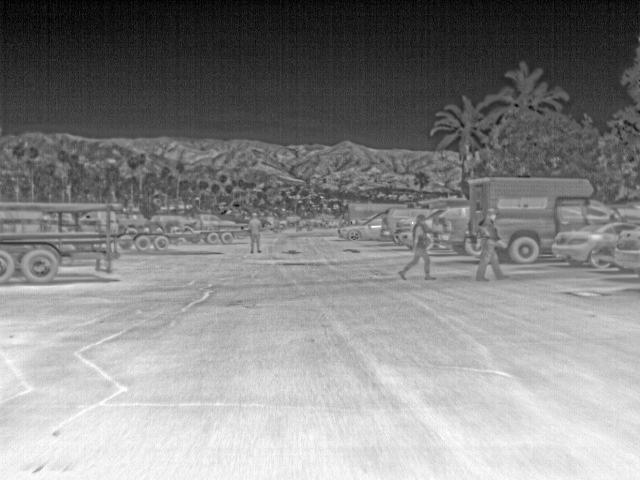car: (552, 221, 639, 269), (434, 219, 479, 257), (385, 206, 424, 248), (610, 227, 639, 276), (338, 217, 381, 243)
person: (396, 214, 438, 280), (472, 209, 507, 285), (245, 212, 264, 254)
